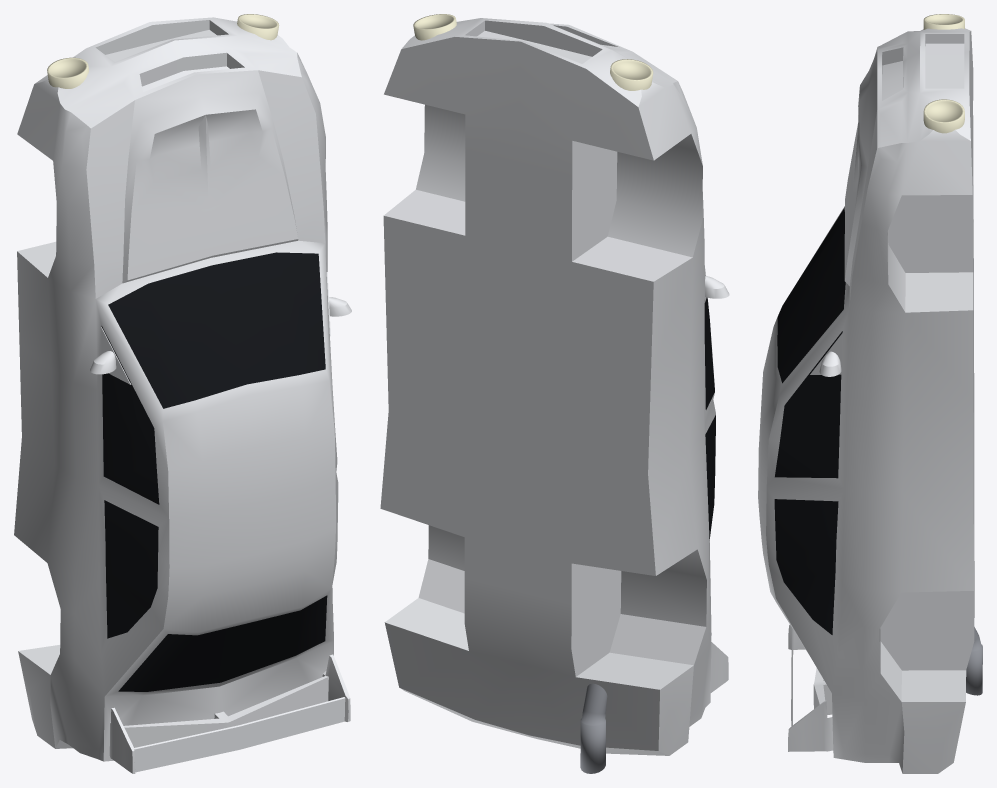
Rendered from lancer_evo.obj.
3 renders of one model, left to right at view 1: azimuth 30°, elevation 25°; view 2: azimuth 150°, elevation 25°; view 3: azimuth 270°, elevation 25°, orthographic. The views are drawn at different scales.
Visible parts, largest first — view 1: lancer_evo; view 2: lancer_evo; view 3: lancer_evo.
Boxes of the visible parts, box(x1,y1,x2,y2) form: lancer_evo: box(14, 14, 351, 773); lancer_evo: box(380, 14, 729, 773); lancer_evo: box(758, 14, 982, 773).
Size of the model in its own units: 182 by 437 by 132.
Materials: 1 (1 with a texture image).
